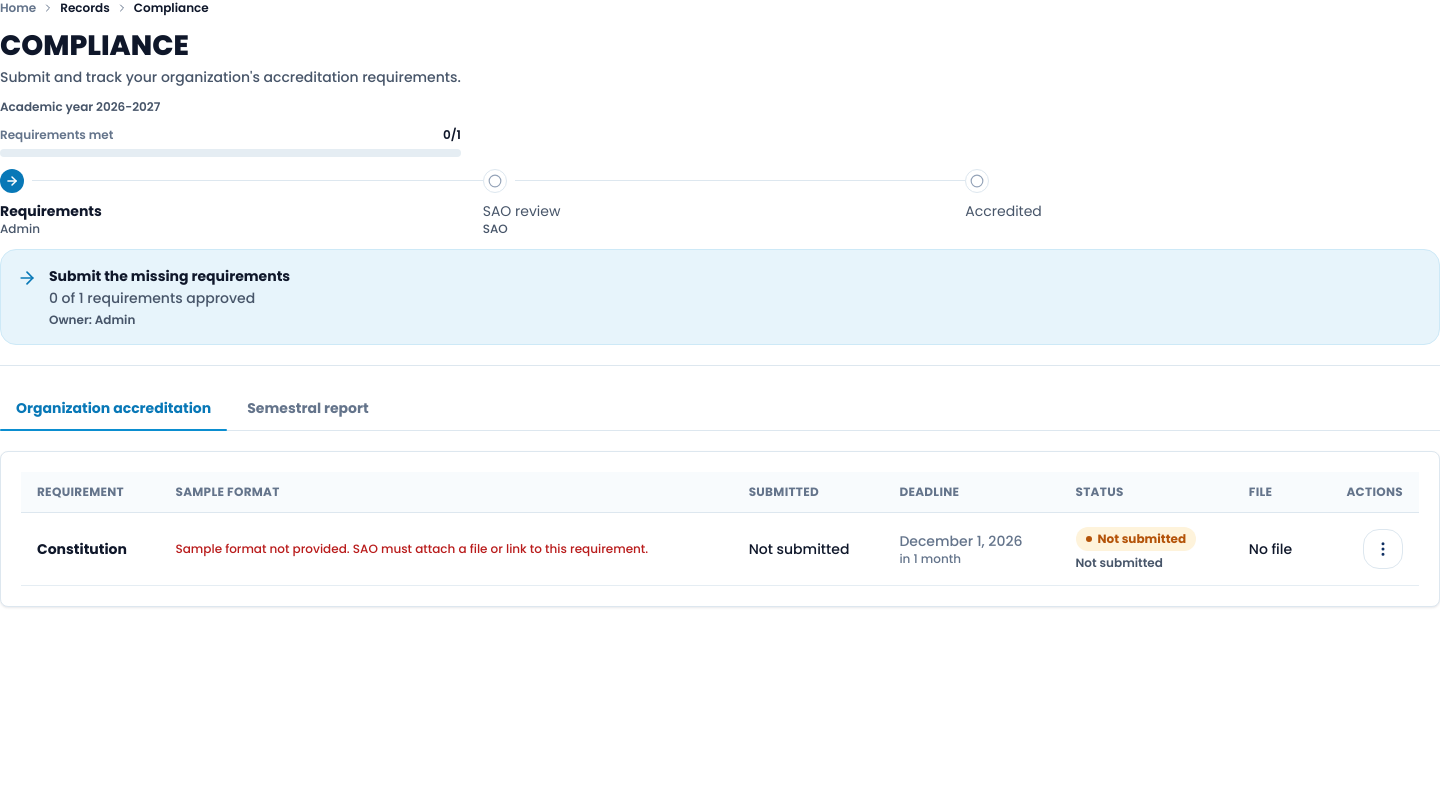
Test: OrganizationCompliancePage › loads the separate semestral report requirements and keeps upload actions available
The width and height of the screenshot is (1440, 810).
Click the tab "Semestral report" at x=308, y=408, box [231,386,385,430]
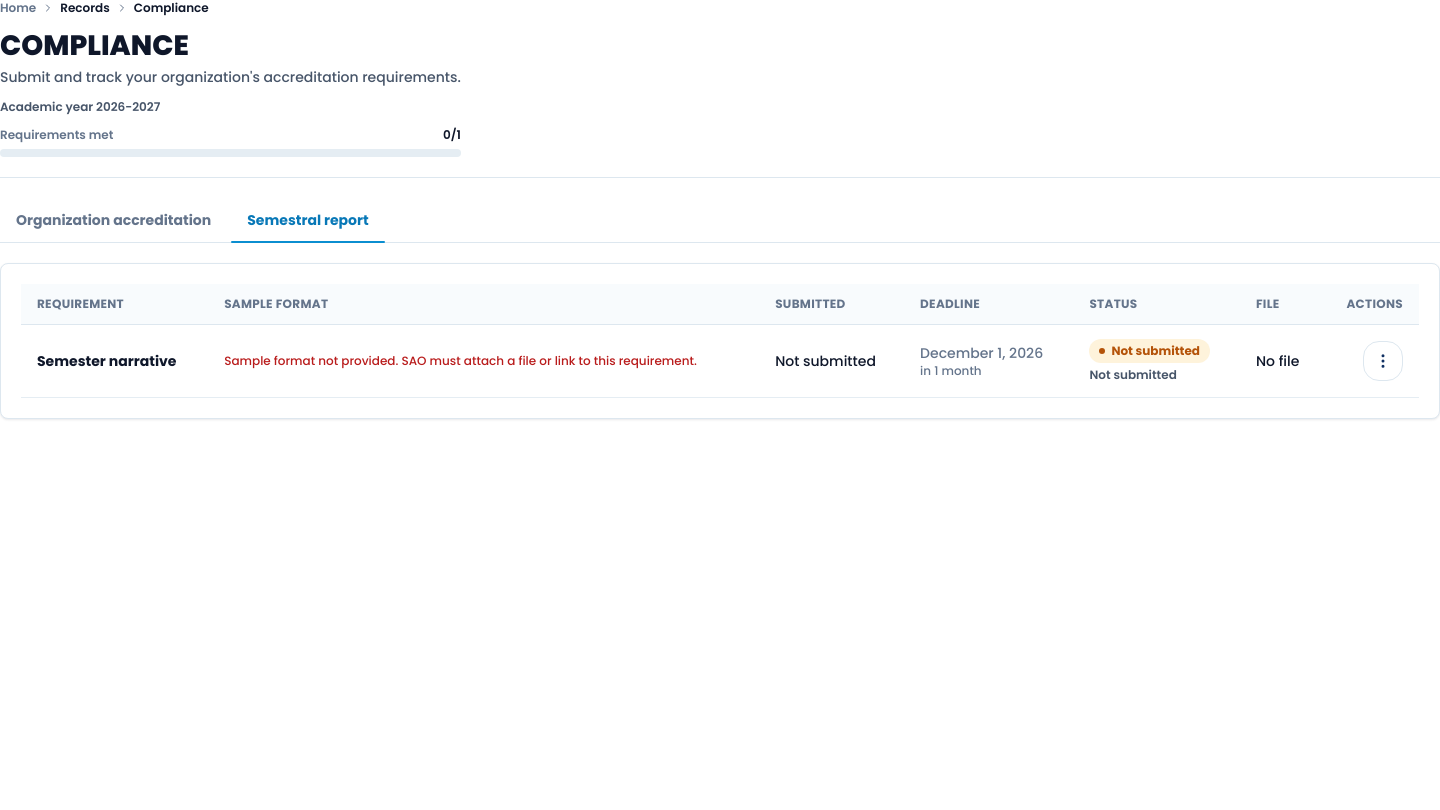
Click the button named "Actions for Semester narrative" at x=1383, y=361, box [1363,341,1403,381]
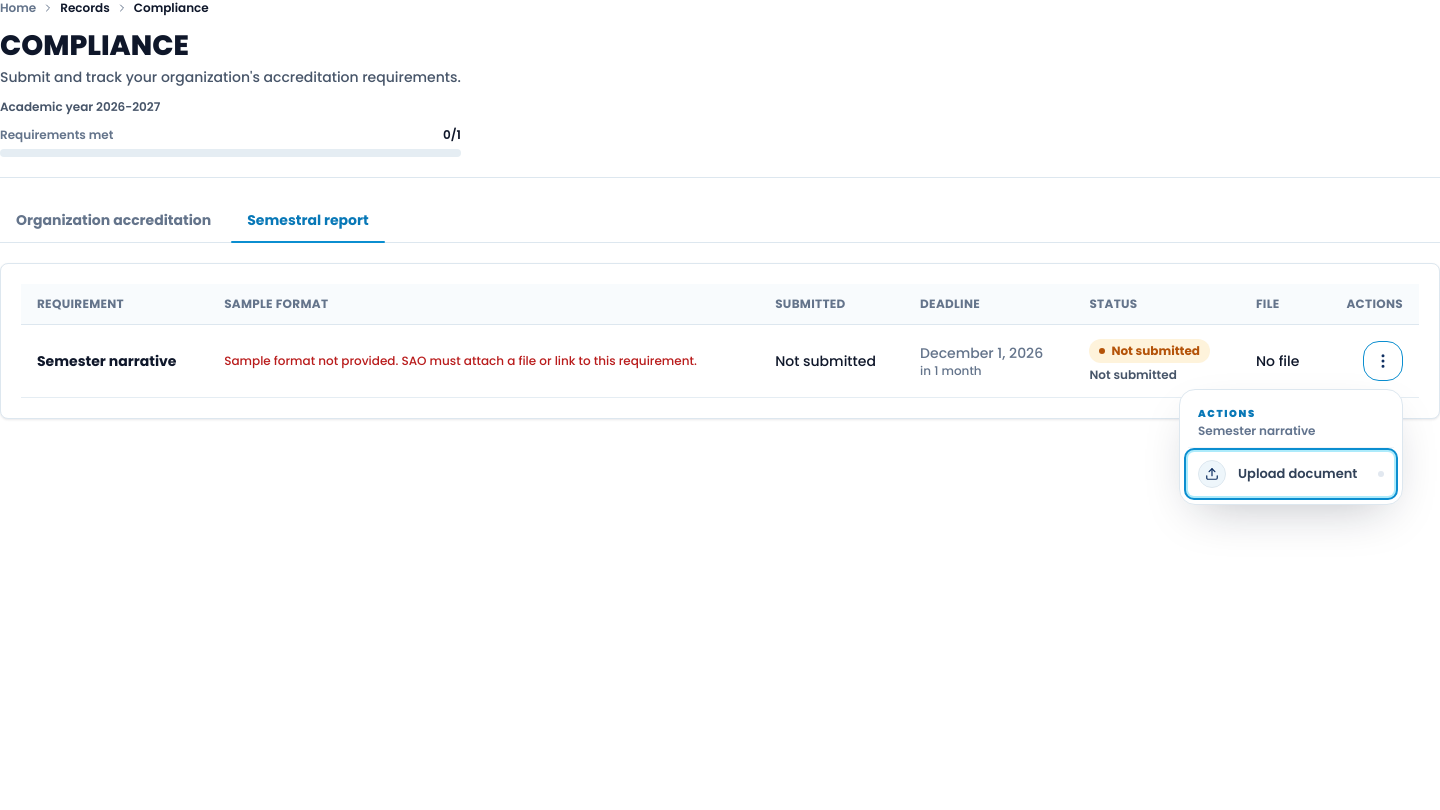
Click the menu item "Upload document" at x=1291, y=474, box [1188,452,1394,496]
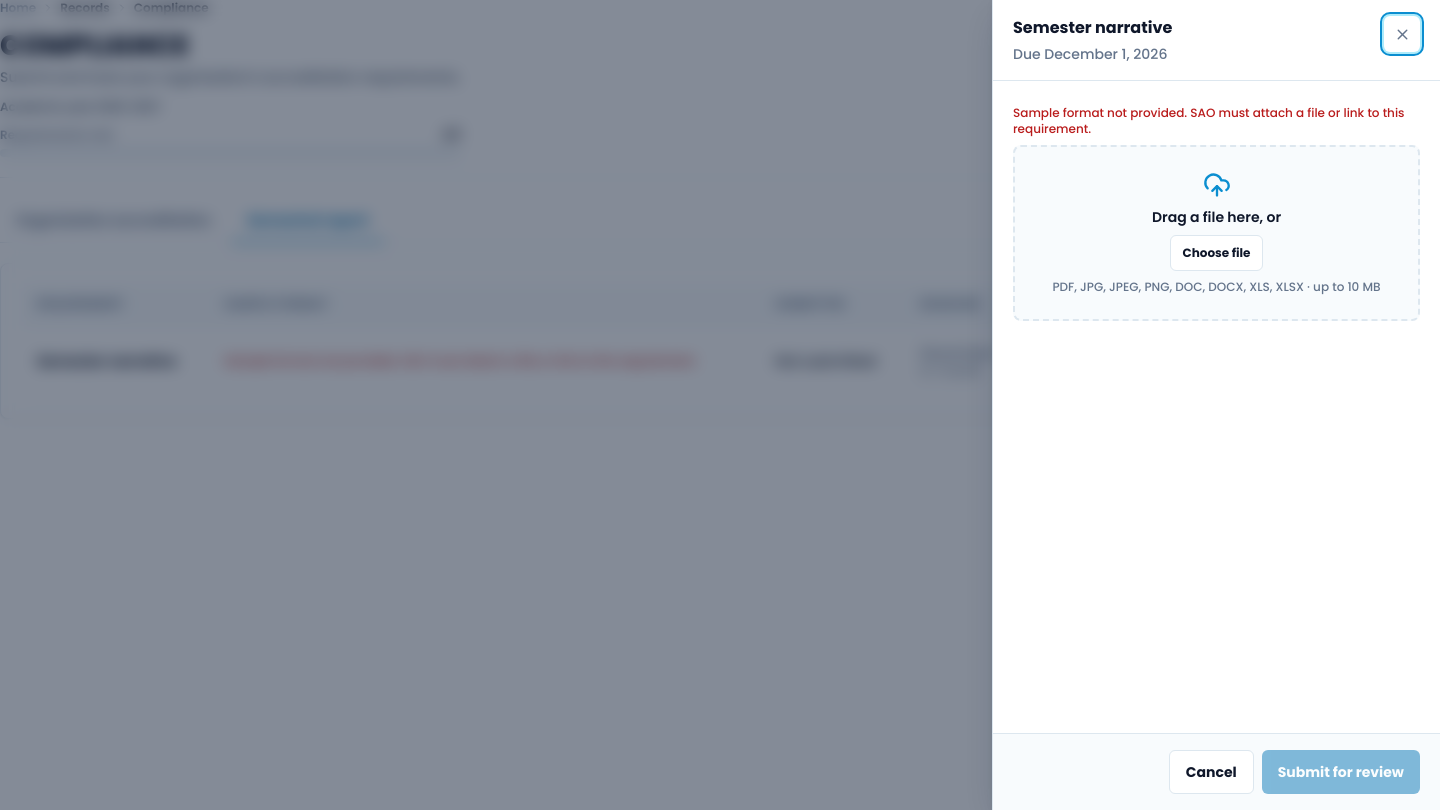
Result: the dialog "Semester narrative" is shown
